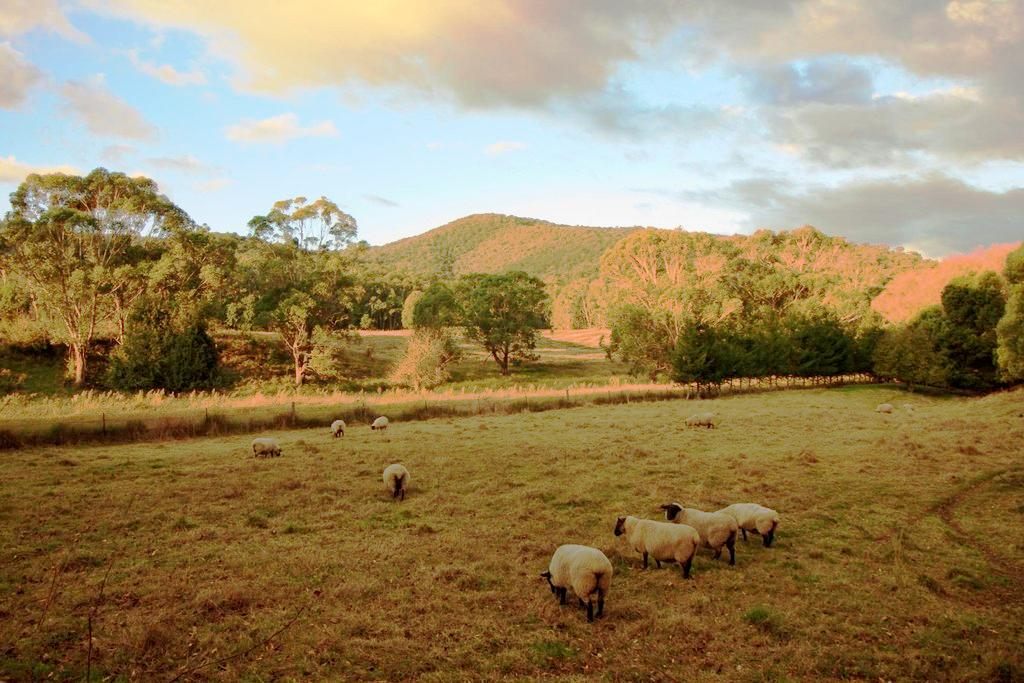Sheep: (542, 546, 612, 620), (614, 518, 702, 576), (662, 502, 738, 554), (720, 502, 780, 548), (380, 462, 413, 502), (252, 438, 280, 455), (332, 420, 344, 442), (374, 413, 389, 430)
